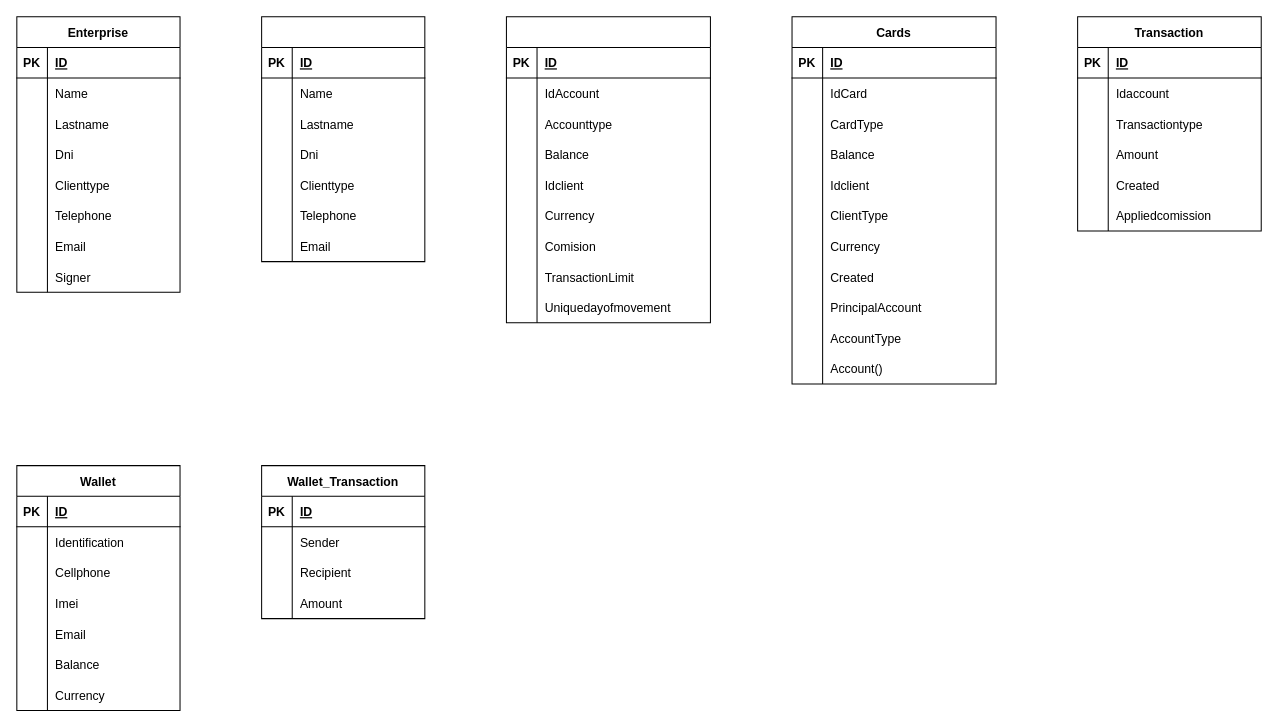
Some shapes in this 1278 by 727 pixel diagram are drawn without their labels. Here are the shapes that lost their labels. From the top down, the box of each, then its label:
(261, 16, 425, 262): Personal
(505, 16, 710, 323): Products
